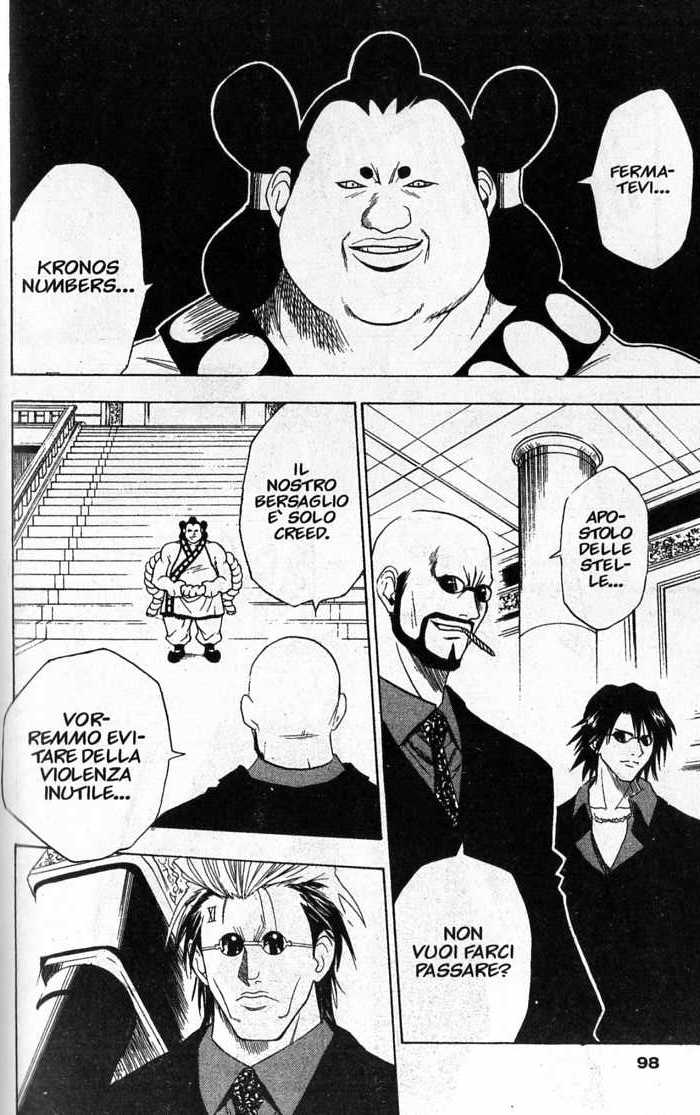Baloon: (6, 647, 182, 864), (13, 164, 157, 379), (237, 403, 365, 620), (393, 840, 527, 1042), (582, 82, 696, 274), (550, 465, 650, 633)
Vignetta: (10, 401, 405, 1115), (10, 1, 699, 379), (360, 406, 698, 1042)
